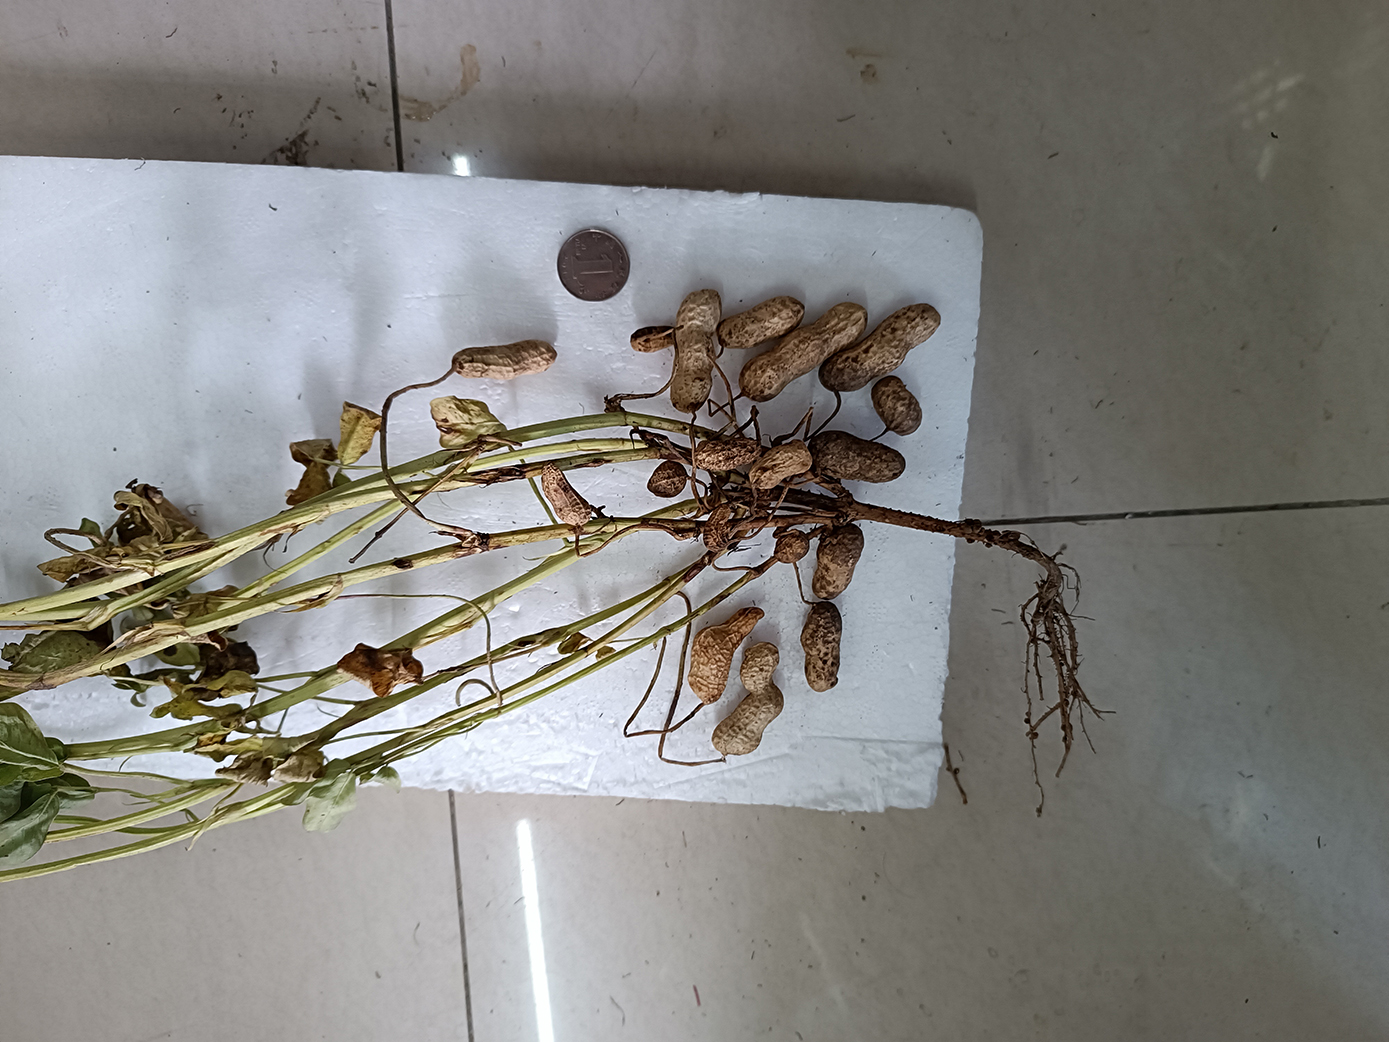h: (738, 302, 871, 402), (817, 300, 942, 392), (711, 641, 785, 756), (687, 604, 763, 704), (671, 289, 720, 413), (718, 297, 805, 348), (799, 602, 844, 693), (451, 340, 557, 379), (813, 524, 864, 599), (539, 462, 590, 528), (748, 440, 814, 490), (697, 438, 761, 473), (647, 460, 687, 498), (773, 531, 810, 565), (628, 326, 673, 352)
l: (806, 430, 906, 485), (871, 377, 923, 436)
